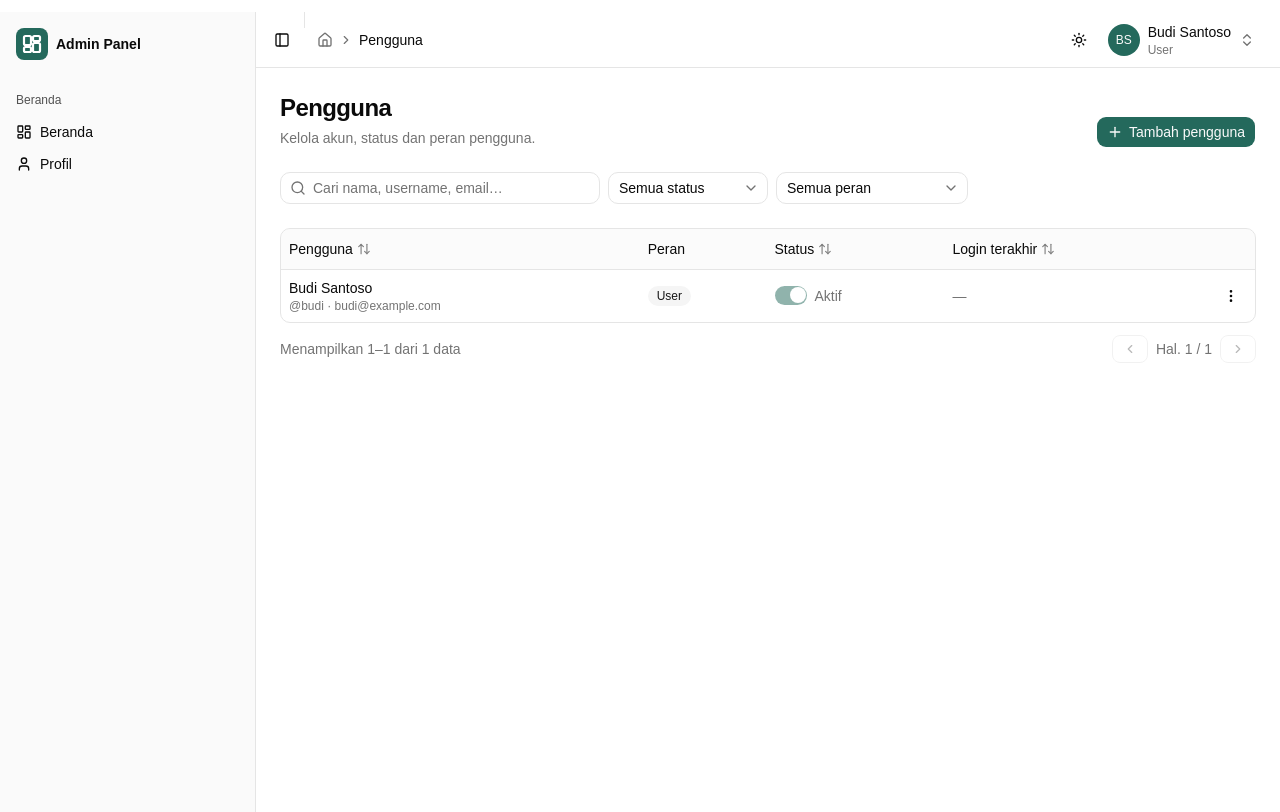
it: user administration dialogs › does not offer self-destructive actions on the own account
expect the switch named "Budi Santoso" is disabled: met, box [774, 286, 806, 305]
What coordinates should you click on to do the following:
click the button named "Aksi untuk Budi Santoso"
I would click on:
 (1231, 296)
Its box is [1215, 280, 1247, 312].
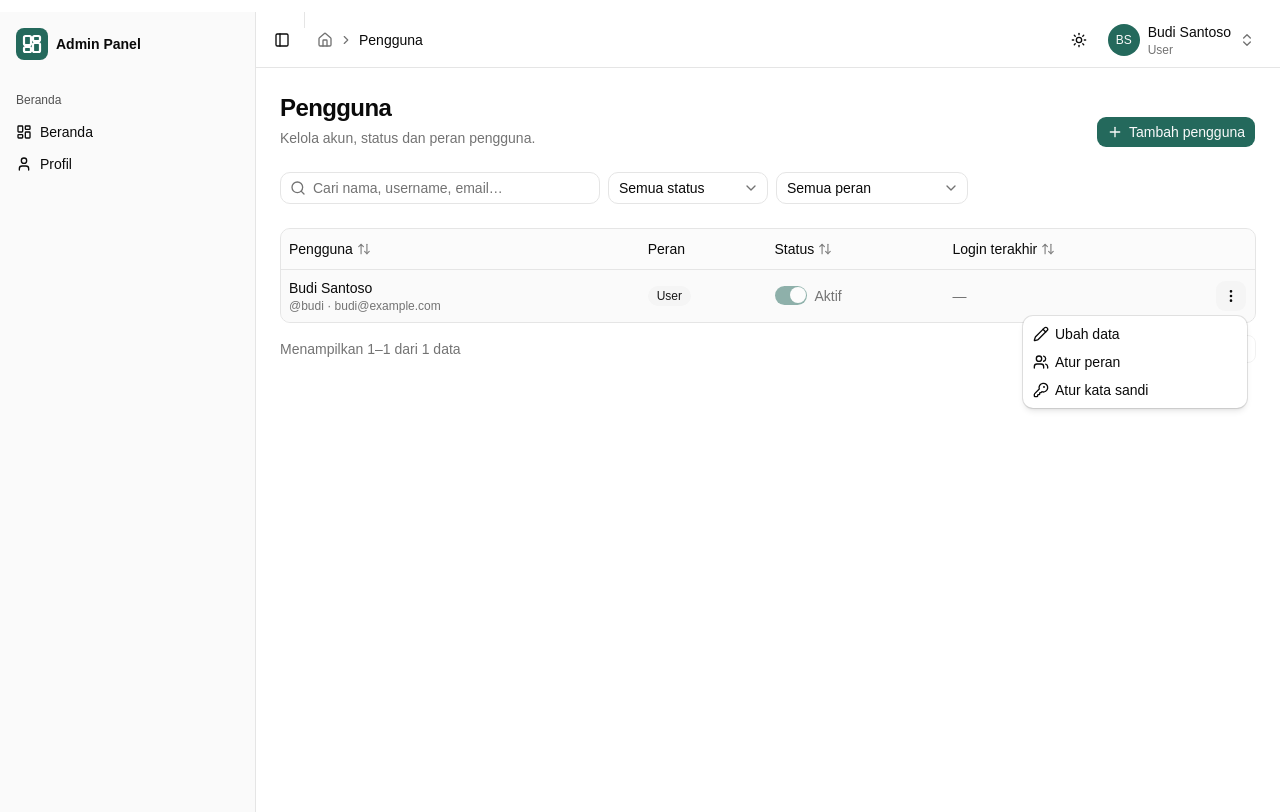
expect the menu item "Ubah data" is shown: met, box [1033, 326, 1120, 342]
